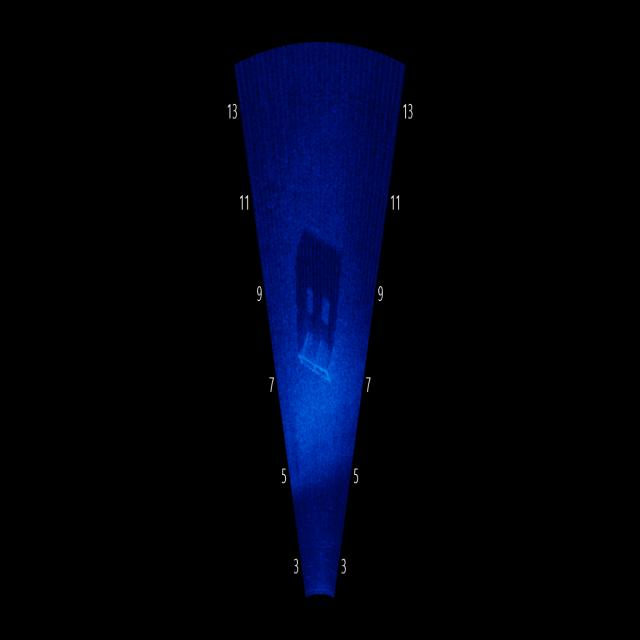square: (292, 311, 344, 396)
